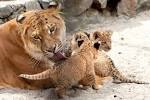lion: (2, 8, 71, 97)
